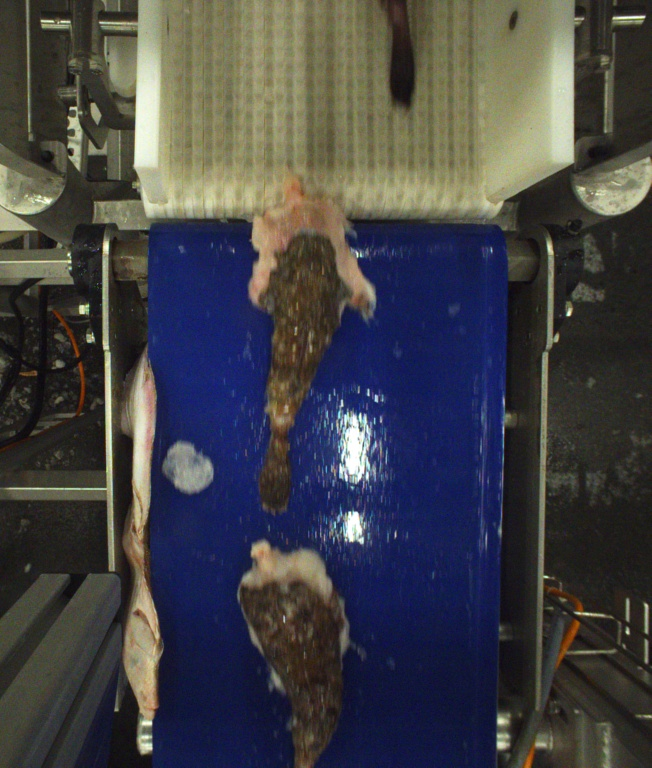ANF: (233, 542, 345, 764)
